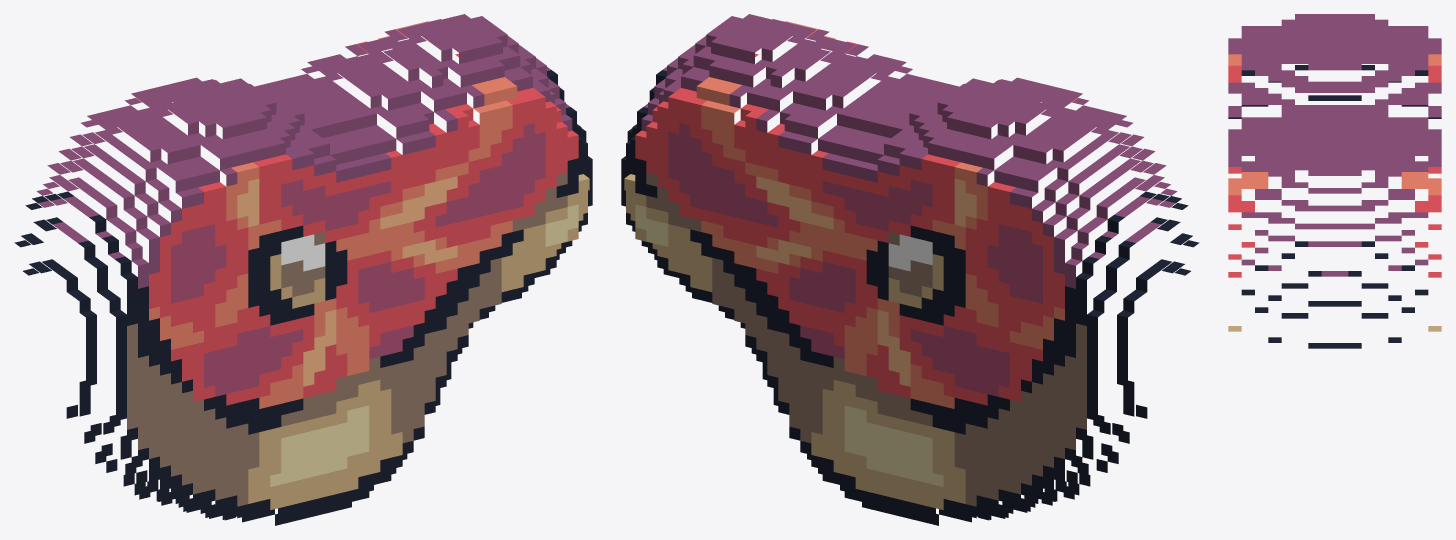
File: minerio.glb
3 views of the same model, side by side, from view 1: azimuth 30°, elevation 25°; view 2: azimuth 150°, elevation 25°; view 3: azimuth 270°, elevation 25° (orthographic). The views are drawn at different scales.
Parts seen in each view (by area): view 1: q0; view 2: q0; view 3: q0.
Part boxes in pixels (x1,y1,x2,y2): q0: [14, 14, 592, 525]; q0: [621, 14, 1199, 525]; q0: [1228, 14, 1441, 348].
Bounding box in the file's own units: 47 × 36 × 16.
1 material, 1 textured.
